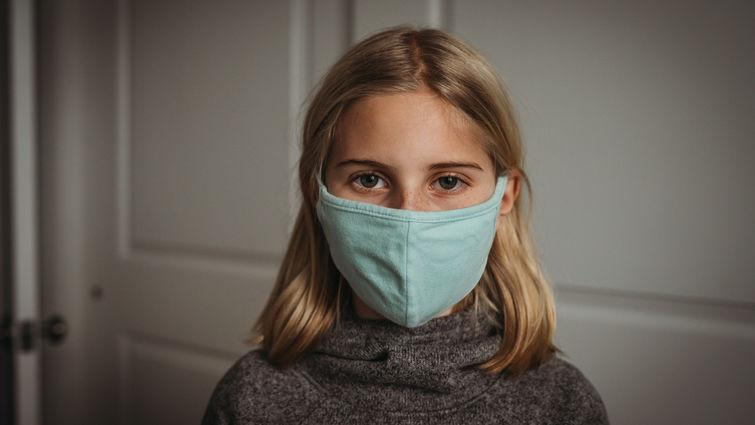mask: (307, 166, 516, 329)
